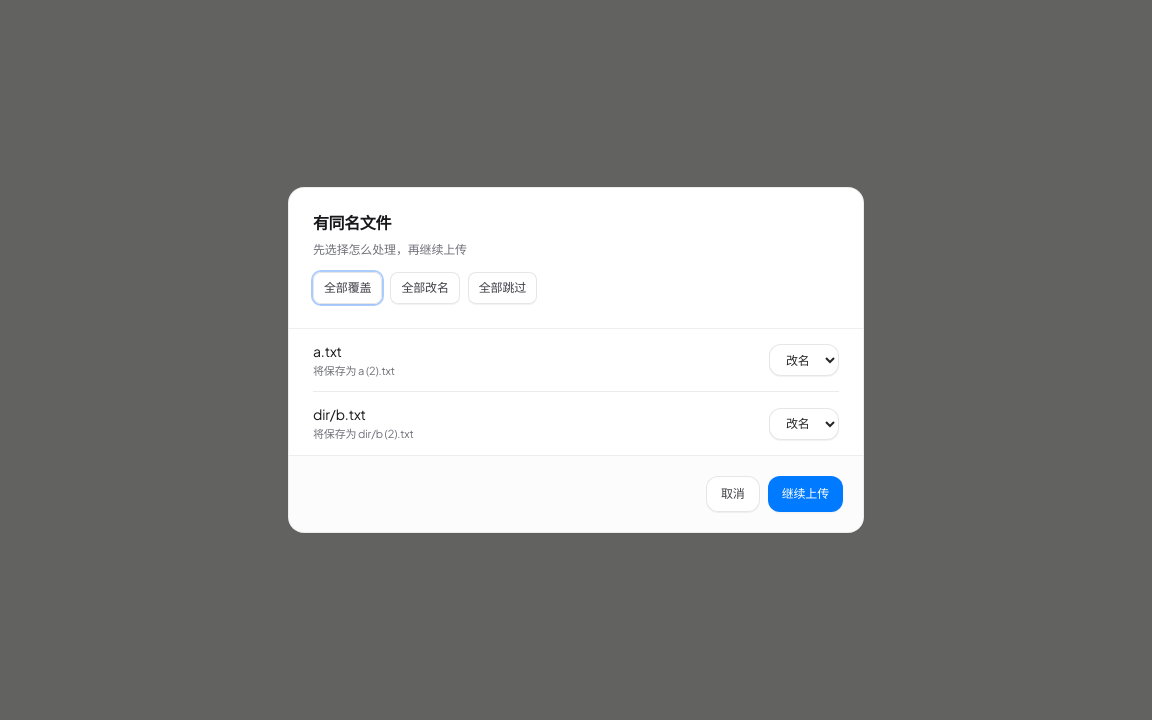
Scenario: ConflictDialog › 全部跳过时确认被禁用
The width and height of the screenshot is (1152, 720).
Click the button "全部跳过".
click(502, 288)  # box [468, 272, 537, 304]
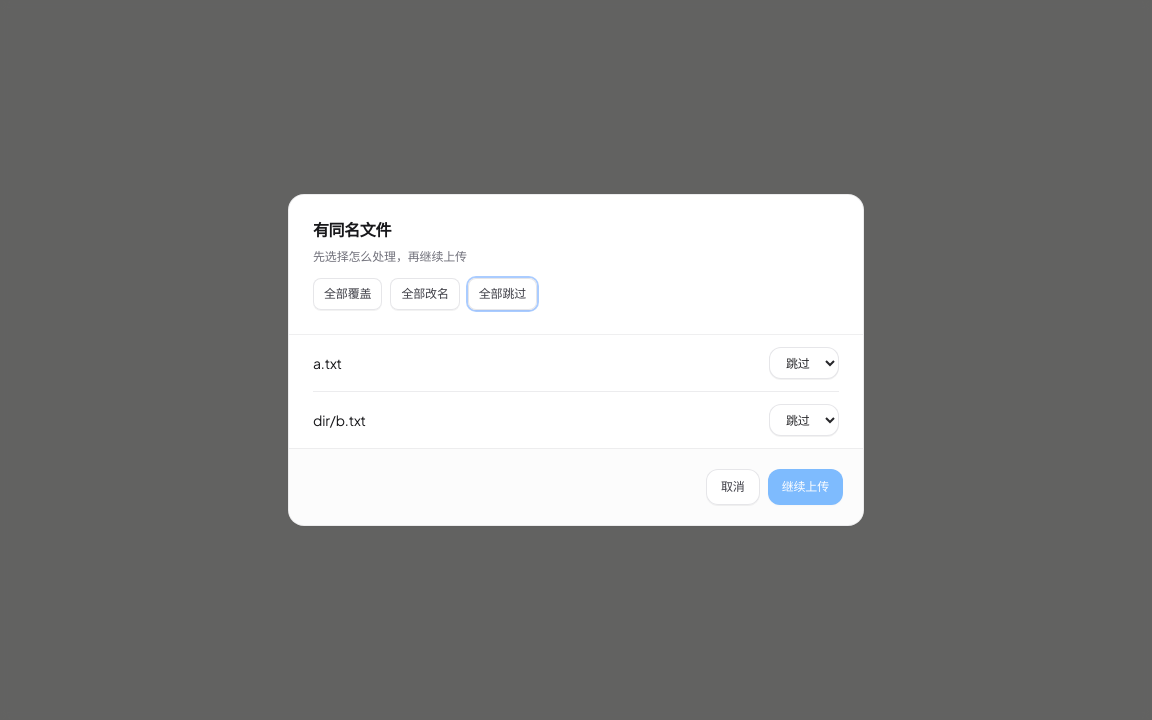
Expected: the button "继续上传" is disabled, [768, 469, 843, 505]
